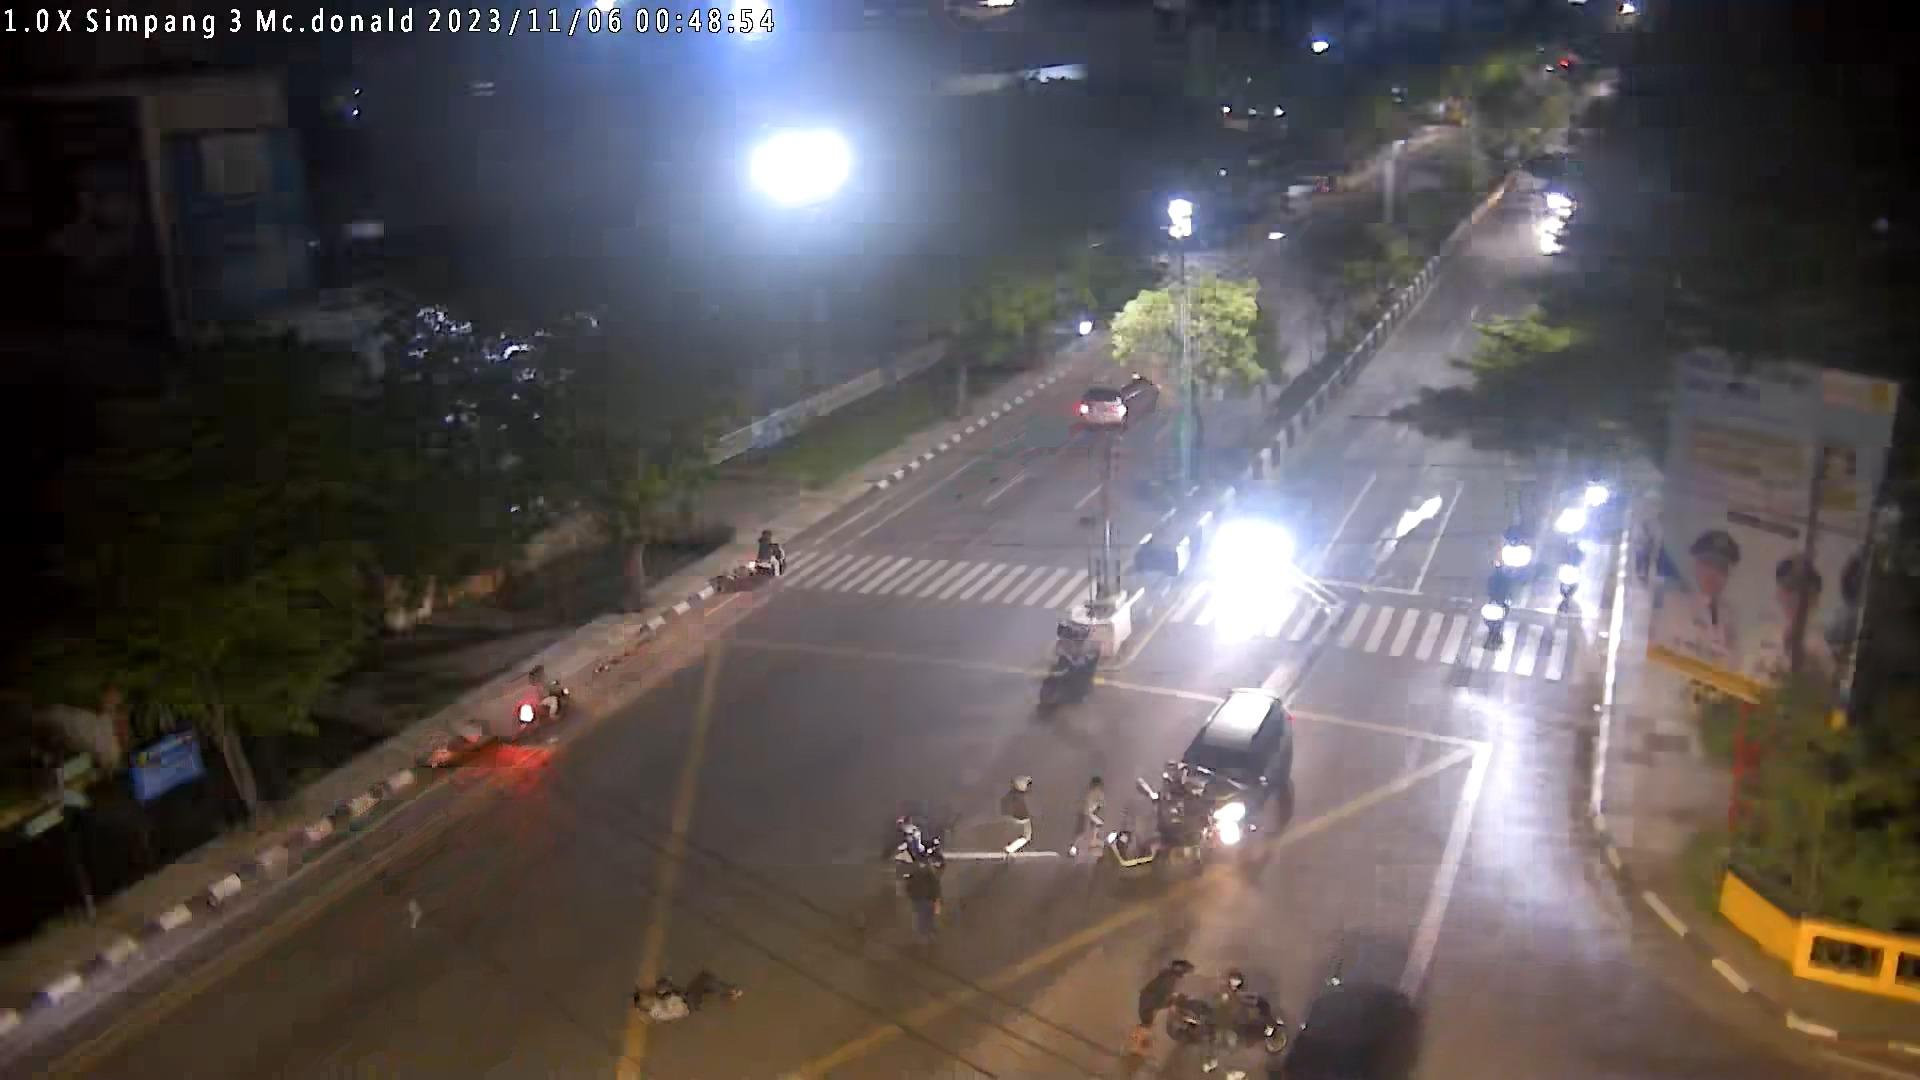accident: (633, 971, 744, 1022)
